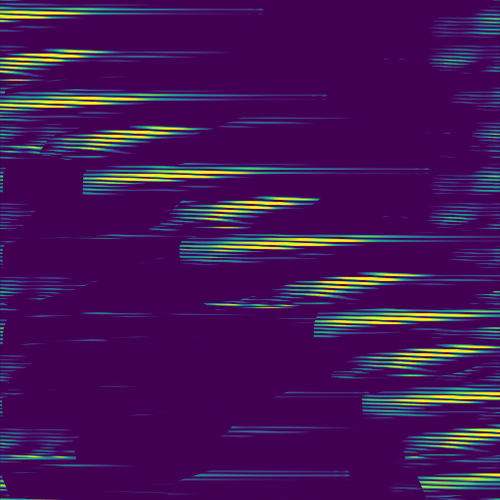semblance: (201, 269, 430, 310), (168, 192, 317, 231), (348, 341, 500, 379), (14, 123, 200, 153), (176, 235, 368, 262), (1, 46, 120, 85), (312, 309, 492, 330), (82, 165, 260, 186), (402, 423, 500, 461), (362, 389, 500, 415), (1, 90, 155, 113), (419, 467, 500, 494), (1, 5, 100, 26)
